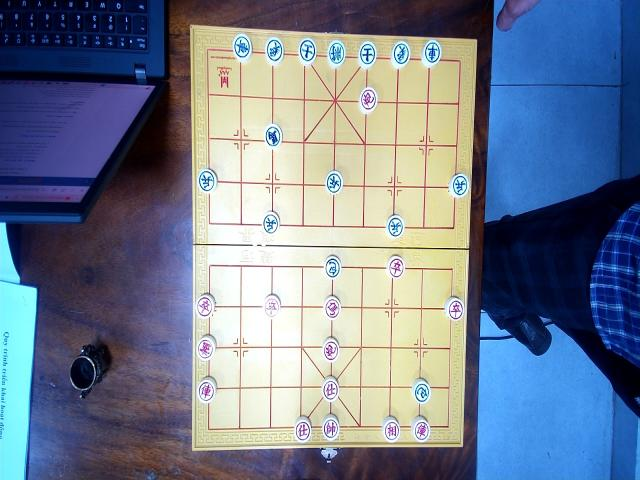piece: (448, 171, 469, 199), (421, 39, 441, 68), (232, 32, 252, 61), (326, 39, 346, 67), (196, 377, 216, 404), (196, 335, 216, 362), (410, 415, 430, 442), (358, 87, 378, 114), (390, 41, 410, 68), (298, 36, 317, 64), (265, 36, 284, 64), (411, 378, 431, 404), (381, 415, 400, 442), (263, 123, 282, 150), (444, 296, 464, 321), (386, 254, 406, 279), (195, 292, 214, 318), (294, 416, 312, 443), (322, 337, 340, 364), (358, 41, 376, 68), (322, 295, 342, 319), (322, 415, 340, 441), (386, 214, 404, 239), (198, 168, 216, 193), (324, 170, 342, 195), (321, 376, 338, 402), (262, 211, 280, 235), (324, 254, 341, 278), (264, 294, 280, 318)
